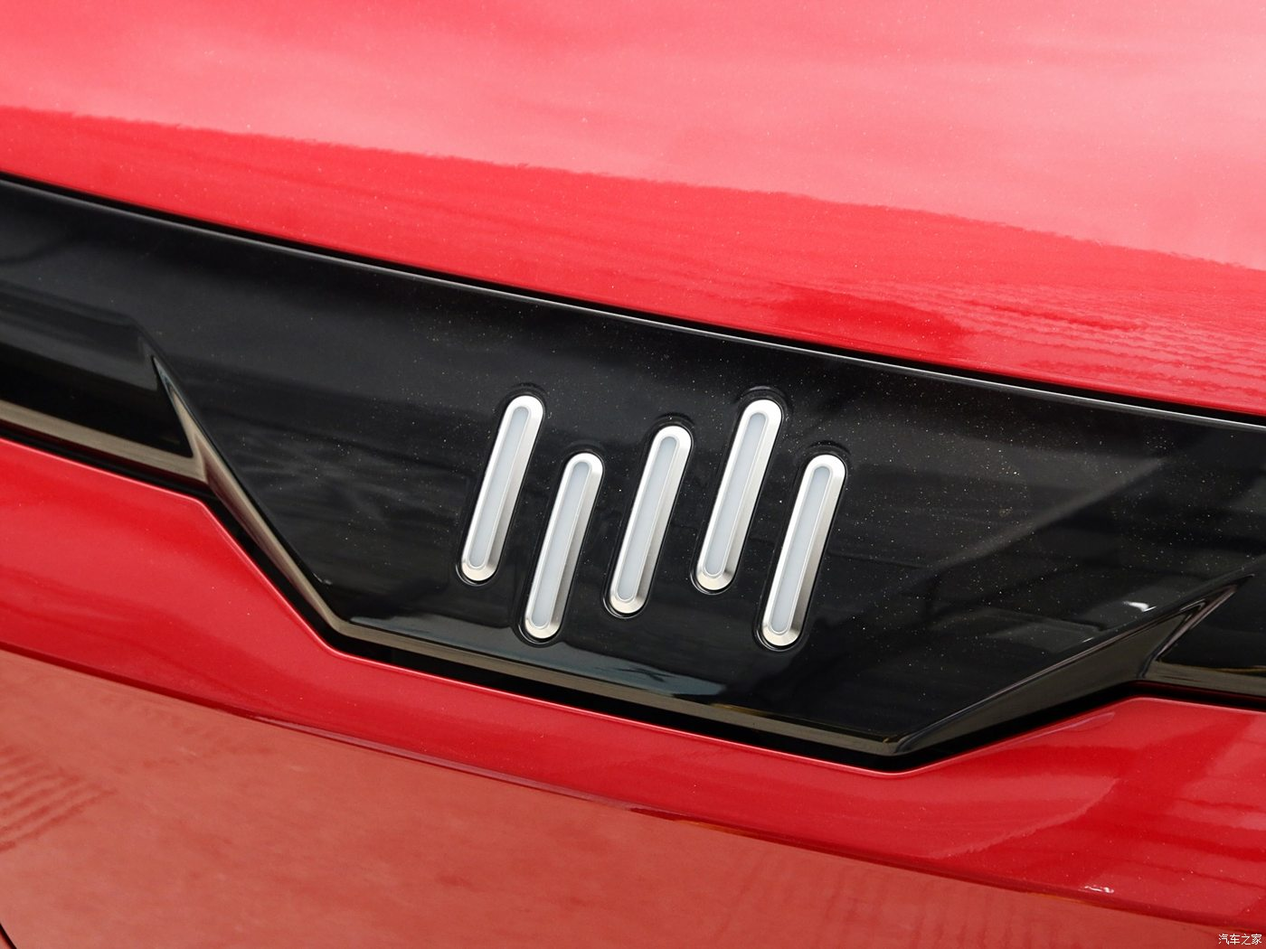WELTMEISTER: (459, 395, 844, 647)
